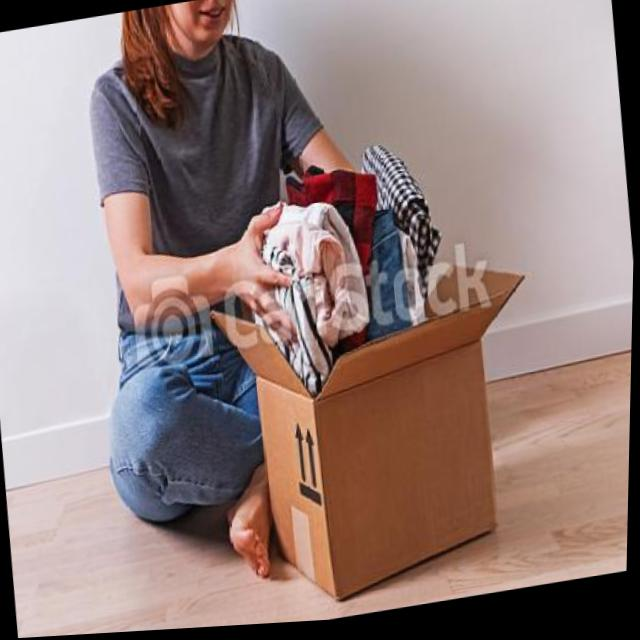box: (207, 244, 567, 622)
